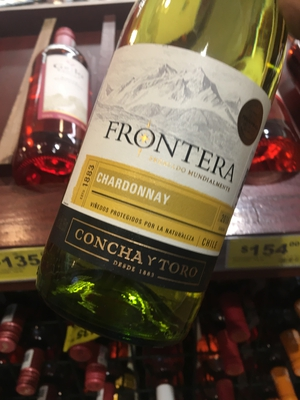frontera chardonnay: (58, 1, 269, 354)
